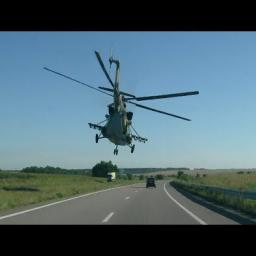helicopter: (44, 46, 200, 157)
